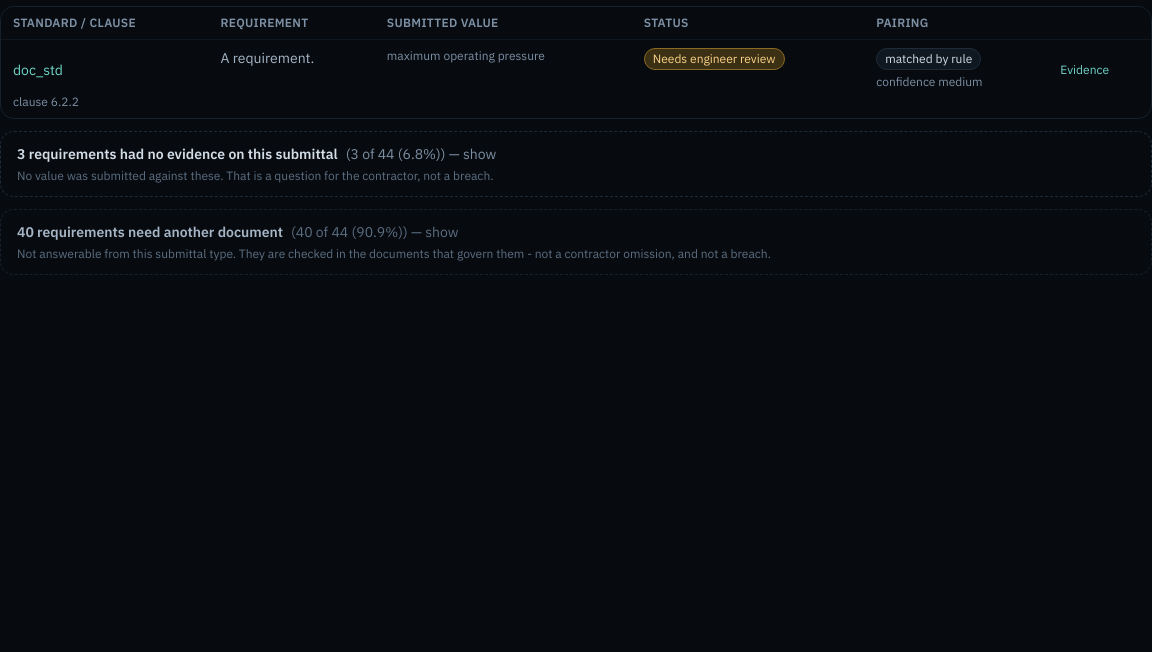
Test: B9: a requirement that needs another document › shows each item's clause, page and text, not just a count
This screenshot has width=1152, height=652.
Click the text "40 requirements need another document" at (25, 232), box [17,223,283,241]
(page scrolled)
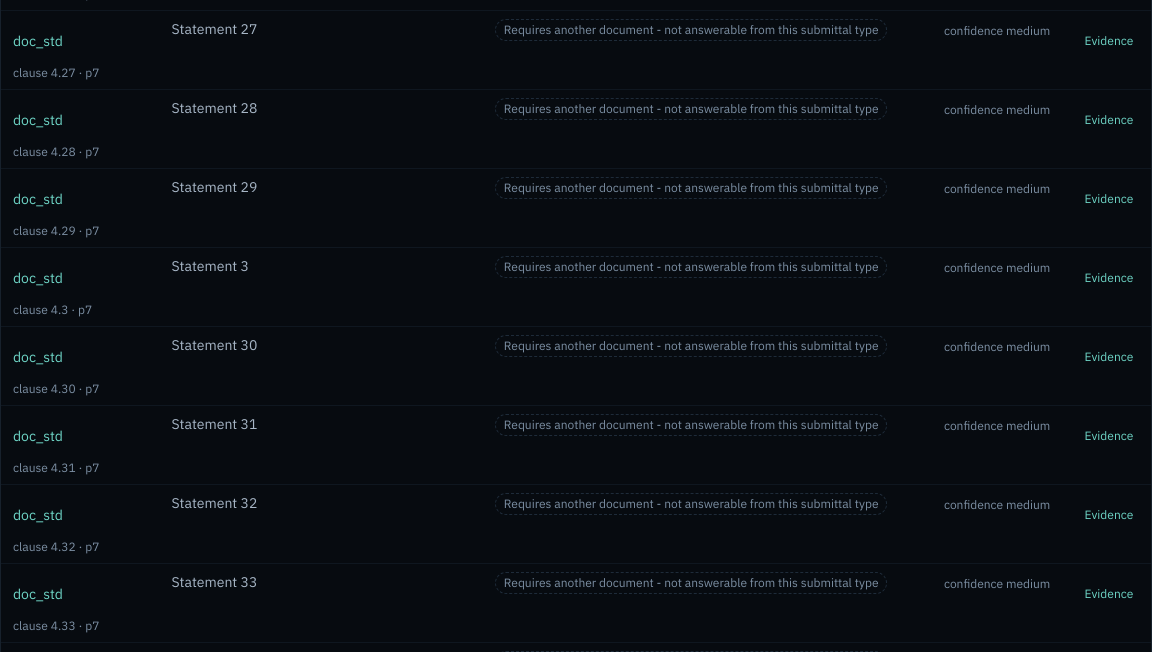
Expected: the text "Statement 3" is shown, [171,257,249,275]
Expected: the text "clause 4.3 · p7" is shown, [13,302,92,317]
